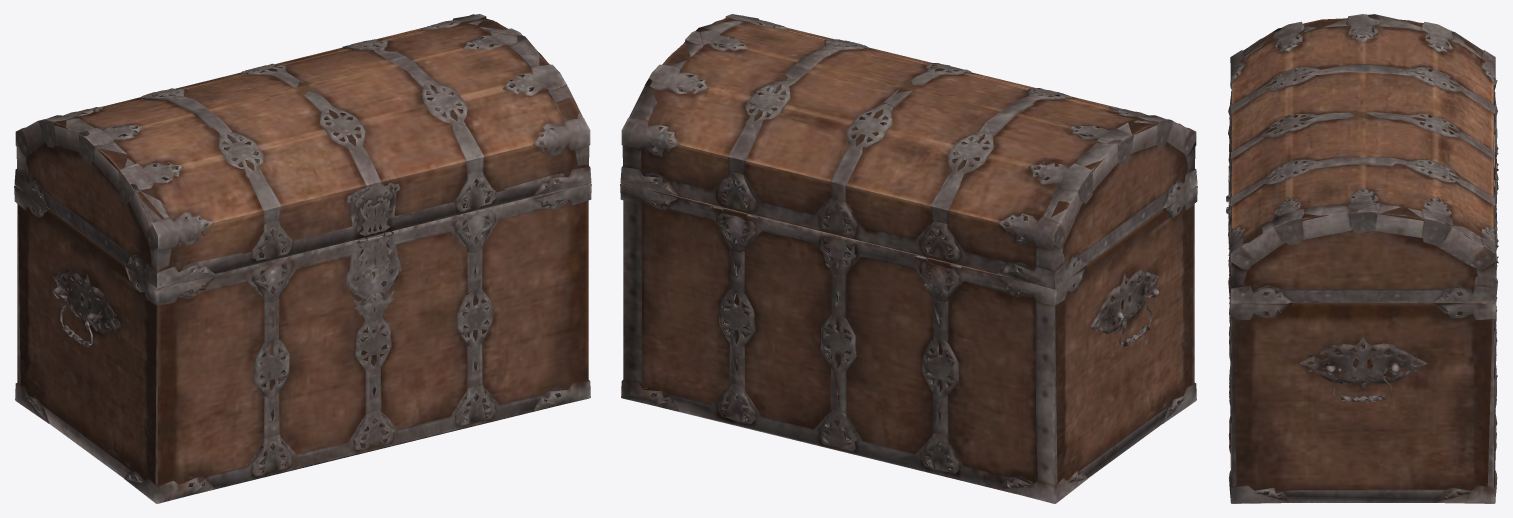
File: treasure_chest.glb
The picture shows the model from 3 angles, left to right: view 1: azimuth 30°, elevation 25°; view 2: azimuth 150°, elevation 25°; view 3: azimuth 270°, elevation 25°; orthographic projection. The views are drawn at different scales.
Parts seen in each view (by area): view 1: treasure_chest_bottom; view 2: treasure_chest_bottom; view 3: treasure_chest_bottom.
Boxes of the visible parts, box(x1,y1,x2,y2) form: treasure_chest_bottom: box(14, 14, 591, 503); treasure_chest_bottom: box(620, 14, 1197, 503); treasure_chest_bottom: box(1226, 14, 1498, 503).
Size of the model in its own units: 0.9605 by 0.6197 by 0.5224.
Materials: 1 (1 with a texture image).
